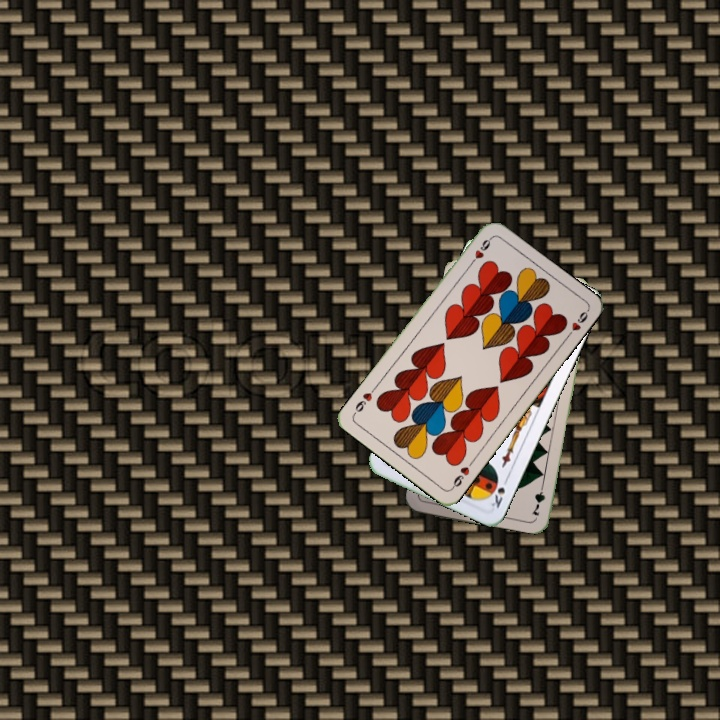G7: (528, 478, 548, 518)
H9: (447, 457, 476, 492), (465, 234, 494, 269)
SK: (487, 473, 511, 511)
